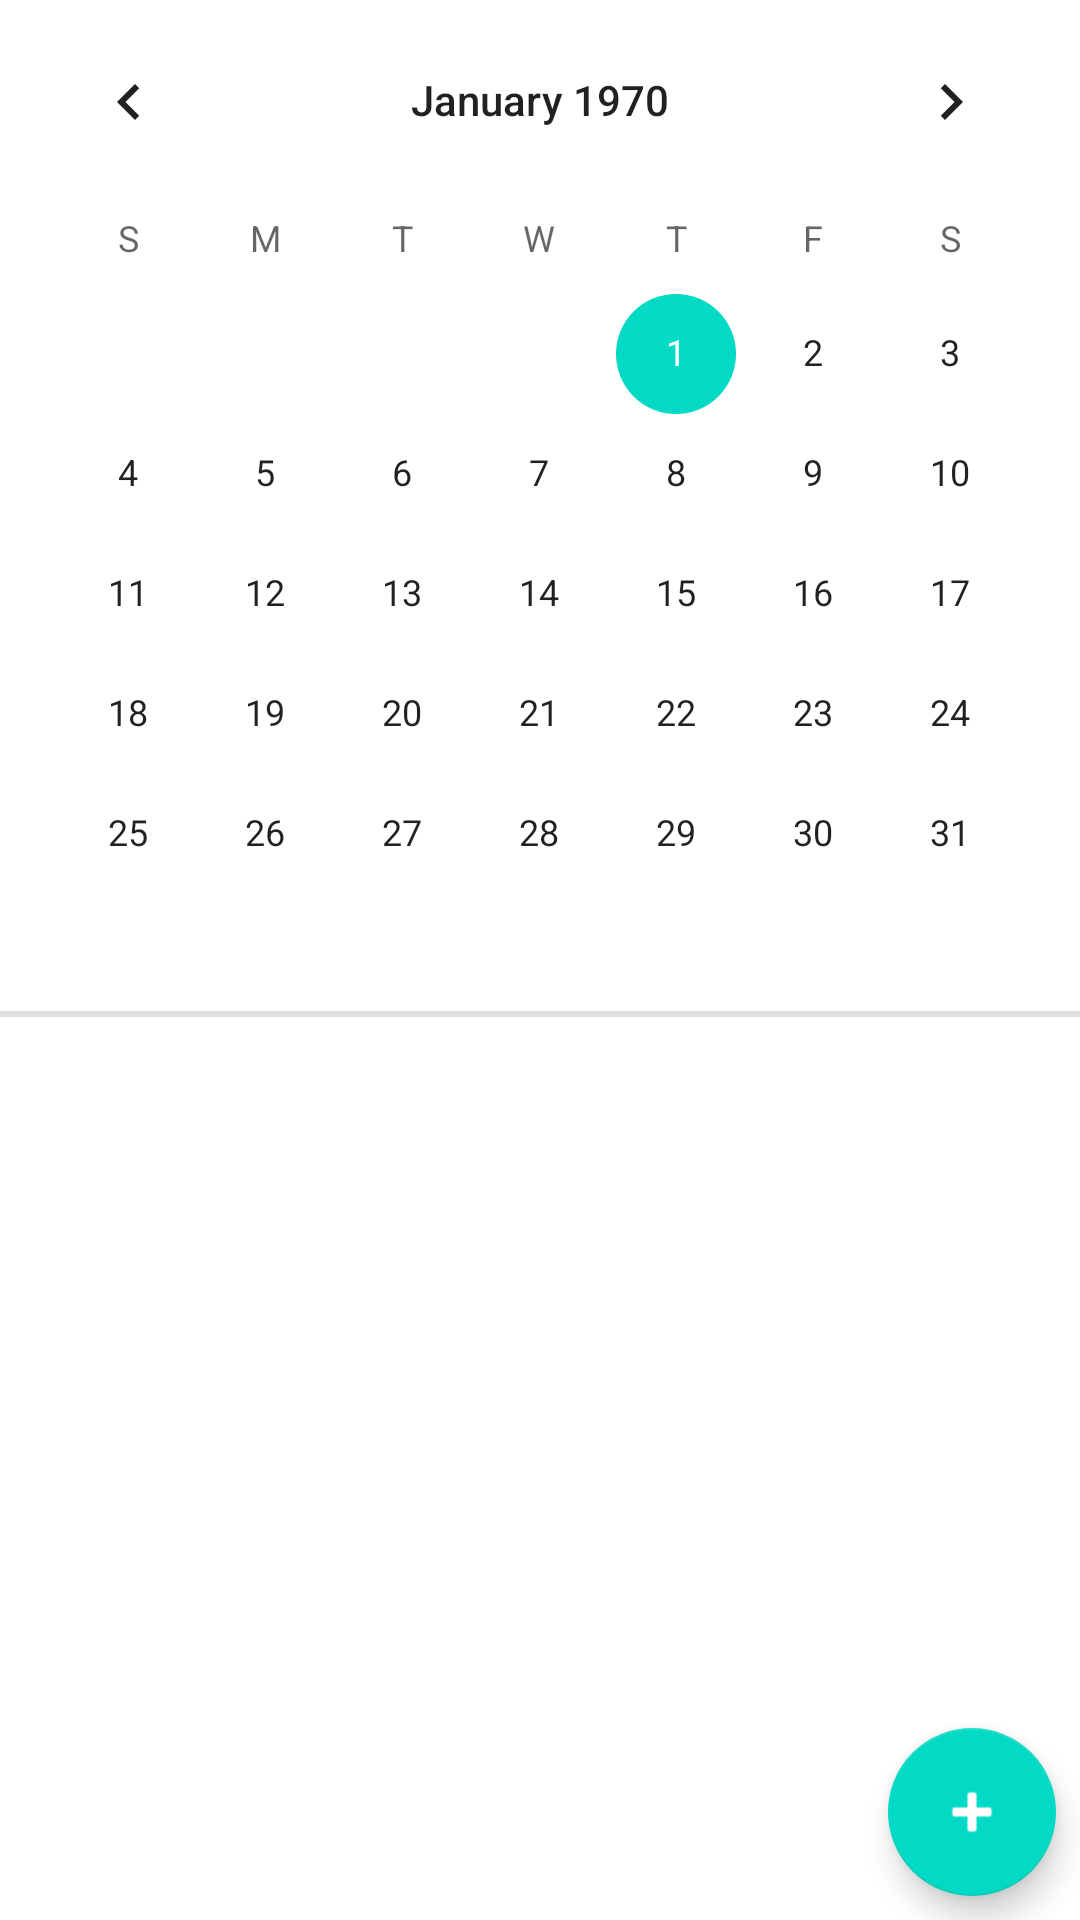

Point at icon controls on the screen. Image size 1080*1920, points as [x,y].
Add todo: [972,1812]
